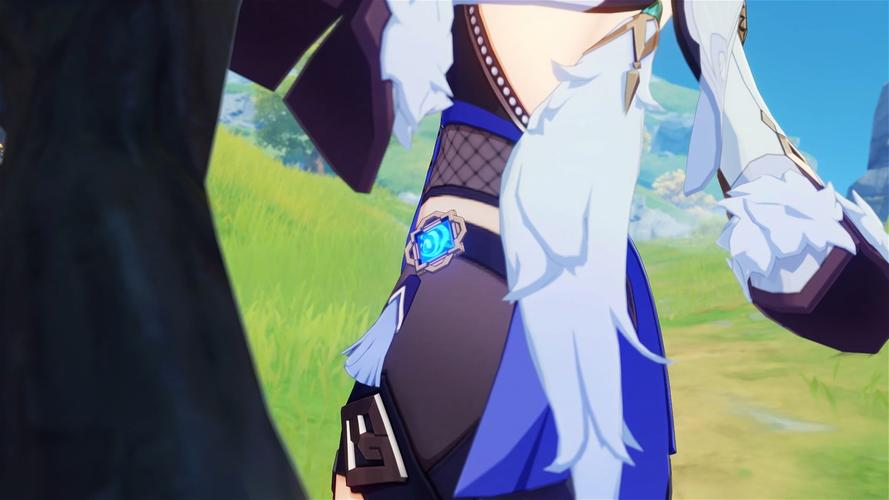夜兰: (332, 1, 678, 498)
